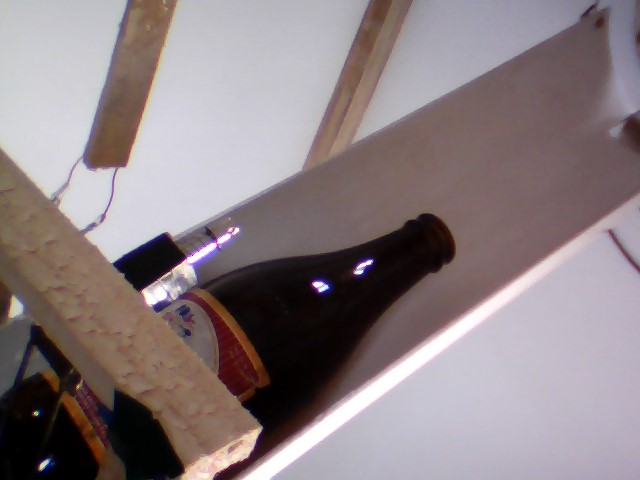vidrio: (189, 207, 467, 434)
